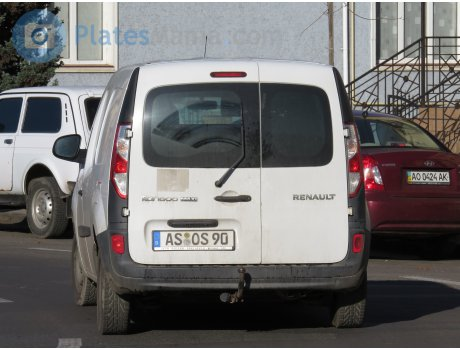License Plates: (160, 229, 228, 244)
